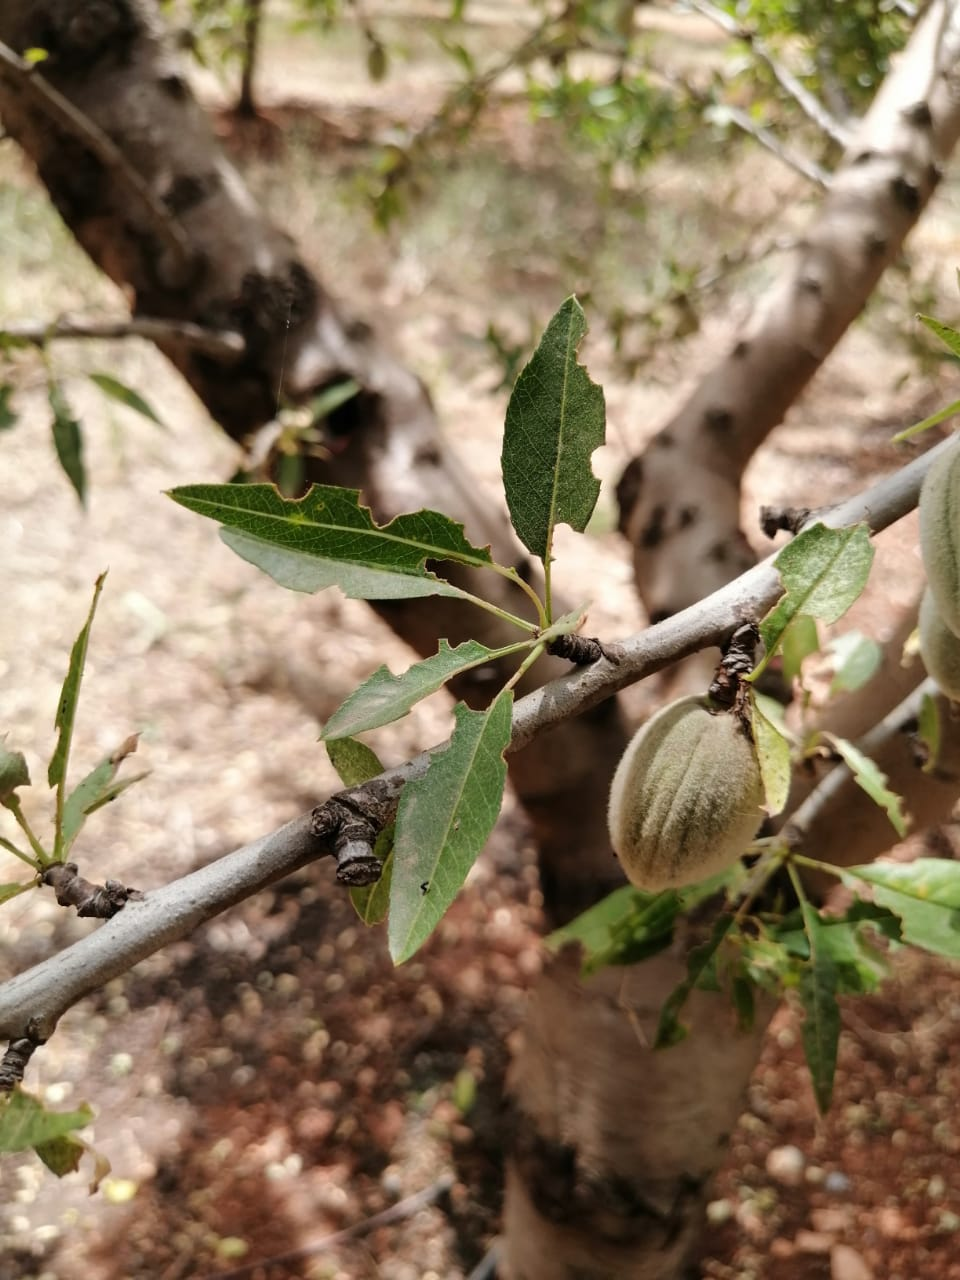othyorinques: (386, 680, 515, 967), (164, 479, 502, 575), (492, 294, 606, 575), (315, 638, 517, 745), (755, 510, 879, 667)
